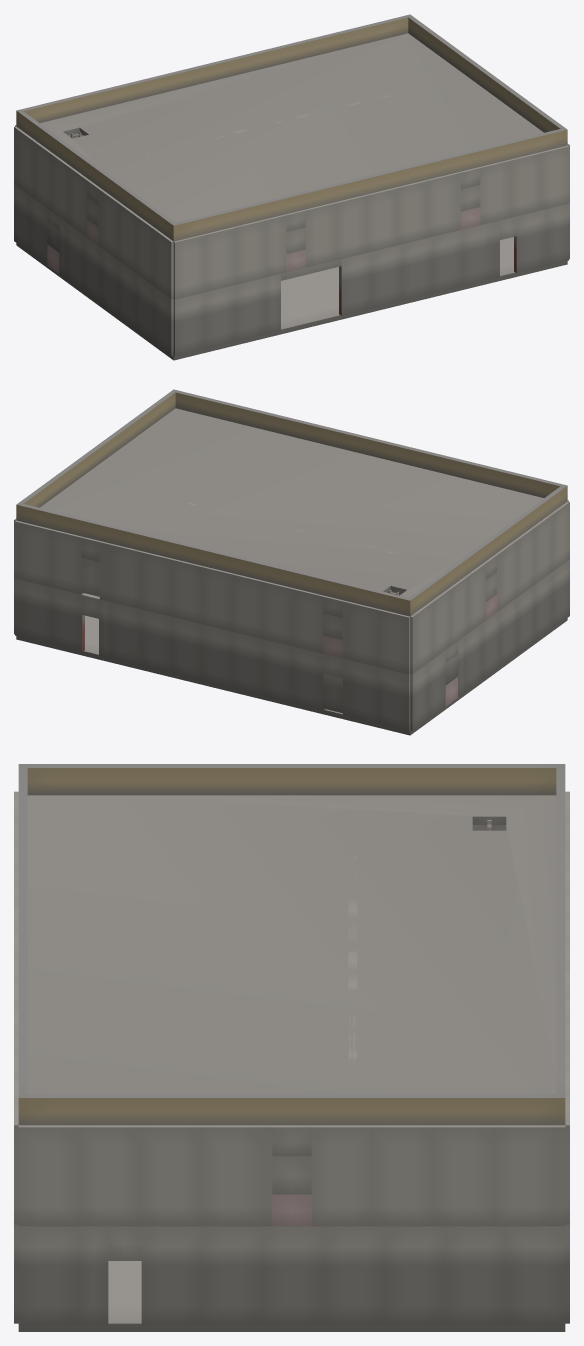
File: night_auto.patina.glb
3 views of the same model, one above another, from view 1: azimuth 30°, elevation 25°; view 2: azimuth 150°, elevation 25°; view 3: azimuth 270°, elevation 25° (orthographic). The views are drawn at different scales.
Parts seen in each view (by area): view 1: slab_2, parapet_S, parapet_N, slab_0, parapet_W, parapet_E, ext_1_S_seg0, ext_0_S_seg0, ext_0_S_seg4, ext_0_S_seg10, ext_1_S_seg4, ext_1_S_seg5 (+37 smaller); view 2: slab_2, parapet_N, parapet_S, parapet_W, parapet_E, slab_0, ext_1_N_seg0, ext_0_N_seg0, ext_0_N_seg11, ext_1_N_seg11, ext_1_N_seg6, ext_1_N_seg8 (+37 smaller); view 3: slab_2, parapet_E, parapet_W, ext_1_E_seg5, ext_1_E_seg0, ext_1_E_seg6, ext_1_E_seg1, ext_1_E_seg2, ext_1_E_seg3, ext_1_E_seg7, ext_1_E_seg8, ext_0_E_seg0 (+17 smaller).
Boxes of the visible parts, bbox=[...] form: slab_2: bbox=[40, 33, 543, 222]; parapet_S: bbox=[171, 129, 567, 241]; parapet_N: bbox=[16, 14, 412, 127]; slab_0: bbox=[16, 237, 567, 360]; parapet_W: bbox=[16, 111, 178, 240]; parapet_E: bbox=[407, 15, 567, 146]; ext_1_S_seg0: bbox=[173, 234, 205, 299]; ext_0_S_seg0: bbox=[173, 292, 205, 356]; ext_0_S_seg4: bbox=[339, 251, 371, 315]; ext_0_S_seg10: bbox=[514, 209, 546, 273]; ext_1_S_seg4: bbox=[305, 202, 336, 267]; ext_1_S_seg5: bbox=[335, 195, 366, 260]; slab_2: bbox=[40, 408, 543, 597]; parapet_N: bbox=[16, 504, 412, 616]; parapet_S: bbox=[171, 389, 567, 498]; parapet_W: bbox=[405, 486, 567, 616]; parapet_E: bbox=[16, 390, 176, 520]; slab_0: bbox=[16, 615, 567, 735]; ext_1_N_seg0: bbox=[378, 609, 410, 674]; ext_0_N_seg0: bbox=[378, 667, 410, 731]; ext_0_N_seg11: bbox=[52, 587, 84, 651]; ext_1_N_seg11: bbox=[51, 529, 83, 594]; ext_1_N_seg6: bbox=[202, 566, 233, 631]; ext_1_N_seg8: bbox=[141, 551, 172, 616]; slab_2: bbox=[27, 795, 556, 1093]; parapet_E: bbox=[18, 1094, 565, 1125]; parapet_W: bbox=[18, 764, 565, 795]; ext_1_E_seg5: bbox=[311, 1125, 372, 1226]; ext_1_E_seg0: bbox=[18, 1125, 79, 1226]; ext_1_E_seg6: bbox=[372, 1125, 433, 1226]; ext_1_E_seg1: bbox=[79, 1125, 139, 1226]; ext_1_E_seg2: bbox=[140, 1125, 200, 1226]; ext_1_E_seg3: bbox=[201, 1125, 261, 1226]; ext_1_E_seg7: bbox=[433, 1125, 493, 1226]; ext_1_E_seg8: bbox=[494, 1125, 554, 1226]; ext_0_E_seg0: bbox=[18, 1226, 79, 1325].
Size of what is drawn, in the model's own units: 26.3 by 8.5 by 18.3.
